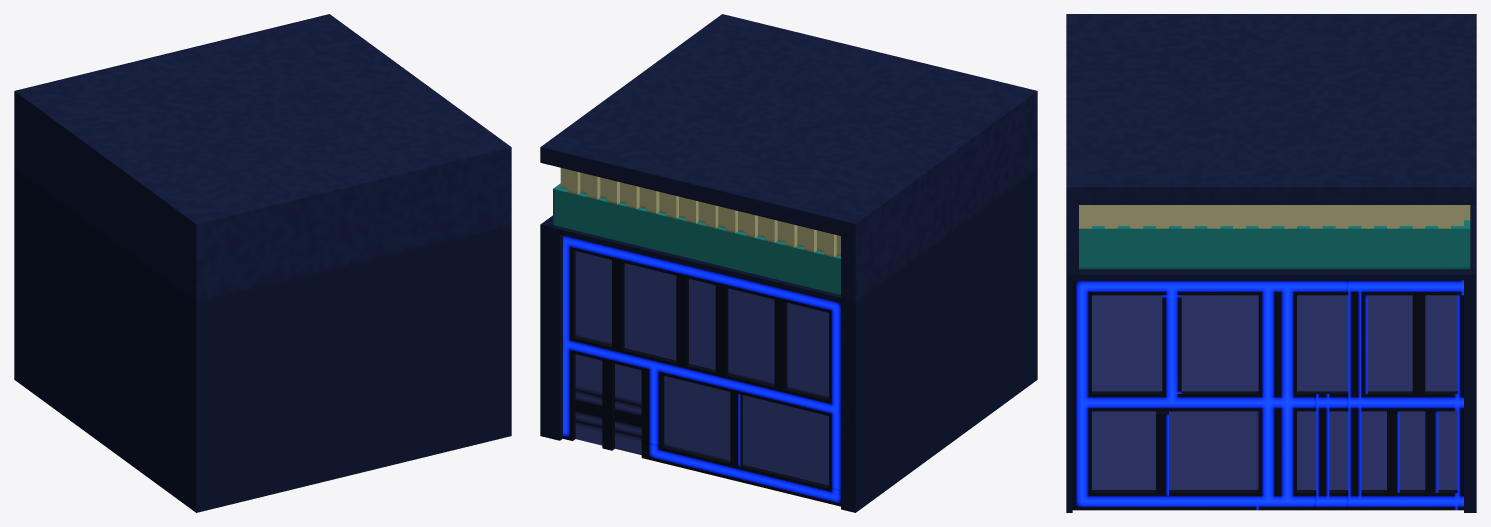
File: sklep_alaa_zabka.dae
3 renders of one model, left to right at view 1: azimuth 30°, elevation 25°; view 2: azimuth 150°, elevation 25°; view 3: azimuth 270°, elevation 25°, orthographic. The views are drawn at different scales.
Visible parts, largest first — view 1: Content; view 2: Content; view 3: Content.
Boxes of the visible parts, left/top/right/bottom form: Content: left=14, top=14, right=511, bottom=512; Content: left=540, top=14, right=1037, bottom=512; Content: left=1066, top=14, right=1476, bottom=512.
Size of the model in its own units: 64 by 56 by 64.
1 material, 1 textured.
